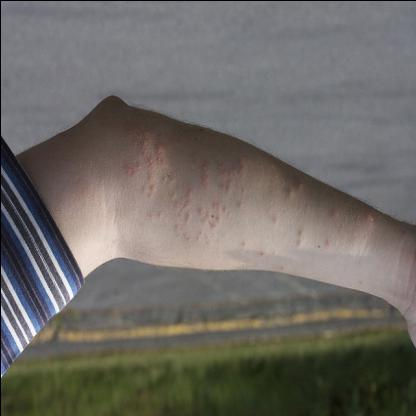Bed Bug: (120, 129, 248, 250), (284, 174, 304, 204), (292, 228, 306, 250), (362, 208, 374, 228), (267, 213, 280, 229), (329, 206, 339, 223), (322, 236, 332, 249), (258, 246, 266, 260)
